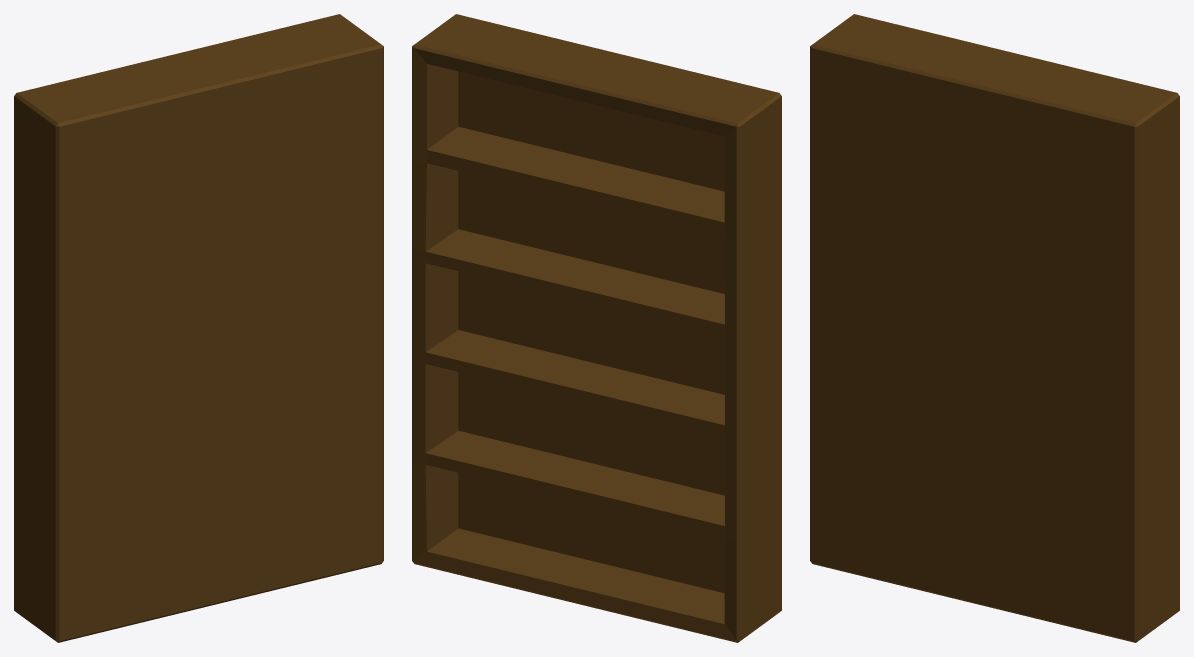
Rendered from Estanteria sin libros.fbx.
3 views of the same model, side by side, from view 1: azimuth 30°, elevation 25°; view 2: azimuth 150°, elevation 25°; view 3: azimuth 330°, elevation 25° (orthographic).
Visible parts, largest first — view 1: Estante.001; view 2: Estante.001; view 3: Estante.001.
Part boxes in pixels (box(x1,y1,x2,y2)): Estante.001: box(14, 14, 383, 642); Estante.001: box(412, 14, 781, 642); Estante.001: box(810, 14, 1179, 642).
Bounding box in the file's own units: 129 × 195 × 30.01.
